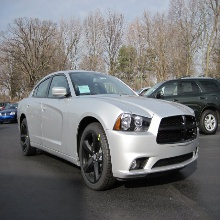no damage: (15, 70, 199, 189), (146, 78, 220, 132)
